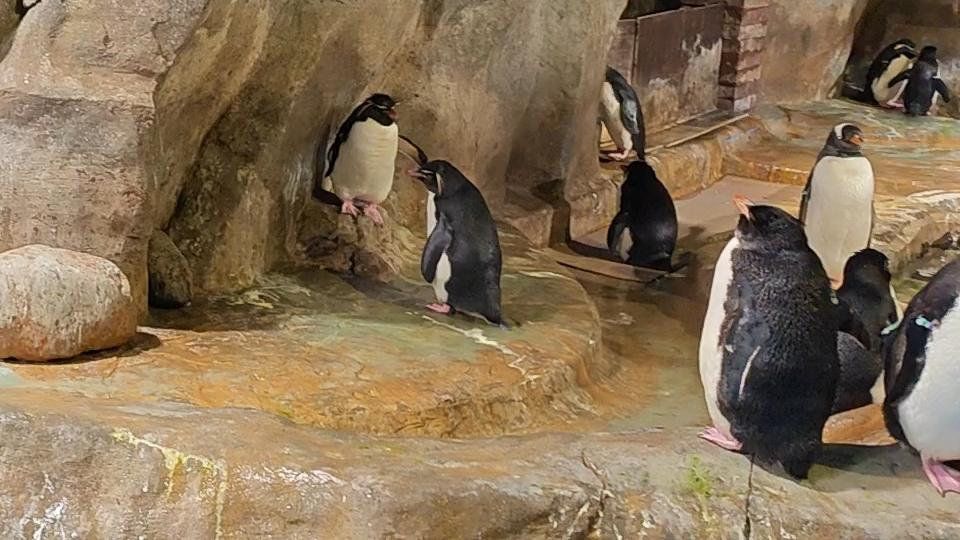Southern Rockhopper Penguin: (693, 186, 837, 488), (403, 154, 509, 332), (319, 87, 430, 224), (606, 151, 683, 274), (593, 61, 652, 165), (886, 41, 951, 126), (859, 29, 918, 110)
